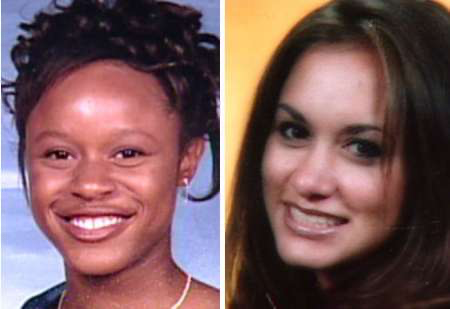Face: (259, 64, 396, 267), (27, 101, 166, 271)
